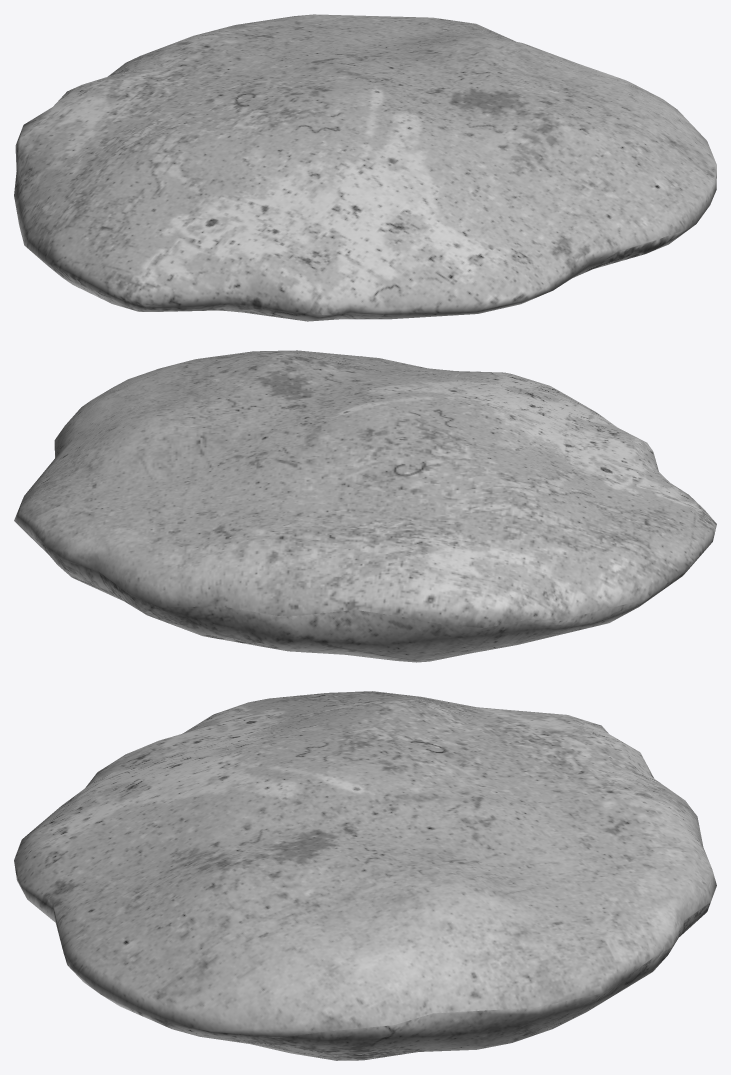
File: SM_Snow_Pile_03a.fbx
3 renders of one model, top to bottom at view 1: azimuth 30°, elevation 25°; view 2: azimuth 150°, elevation 25°; view 3: azimuth 270°, elevation 25°, orthographic. The views are drawn at different scales.
Visible parts, largest first — view 1: SM_Snow_Pile_03a_LOD0; view 2: SM_Snow_Pile_03a_LOD0; view 3: SM_Snow_Pile_03a_LOD0.
Boxes of the visible parts, <box> form: SM_Snow_Pile_03a_LOD0: <box>14,14,716,321</box>; SM_Snow_Pile_03a_LOD0: <box>14,350,716,662</box>; SM_Snow_Pile_03a_LOD0: <box>14,691,716,1060</box>.
Size of the model in its own units: 181 by 164 by 49.42.
